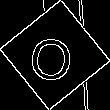O_N: (31, 28, 79, 82)
